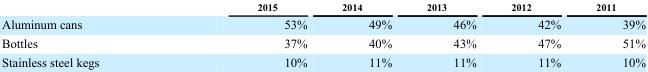table: (1, 0, 644, 68)
table column: (1, 0, 177, 68), (177, 0, 323, 68), (323, 0, 408, 68), (408, 0, 493, 68), (493, 0, 577, 68), (577, 0, 644, 68)
table column header: (1, 0, 644, 14)
table row: (1, 14, 644, 33), (1, 33, 644, 52), (1, 52, 644, 68), (1, 0, 644, 14)
